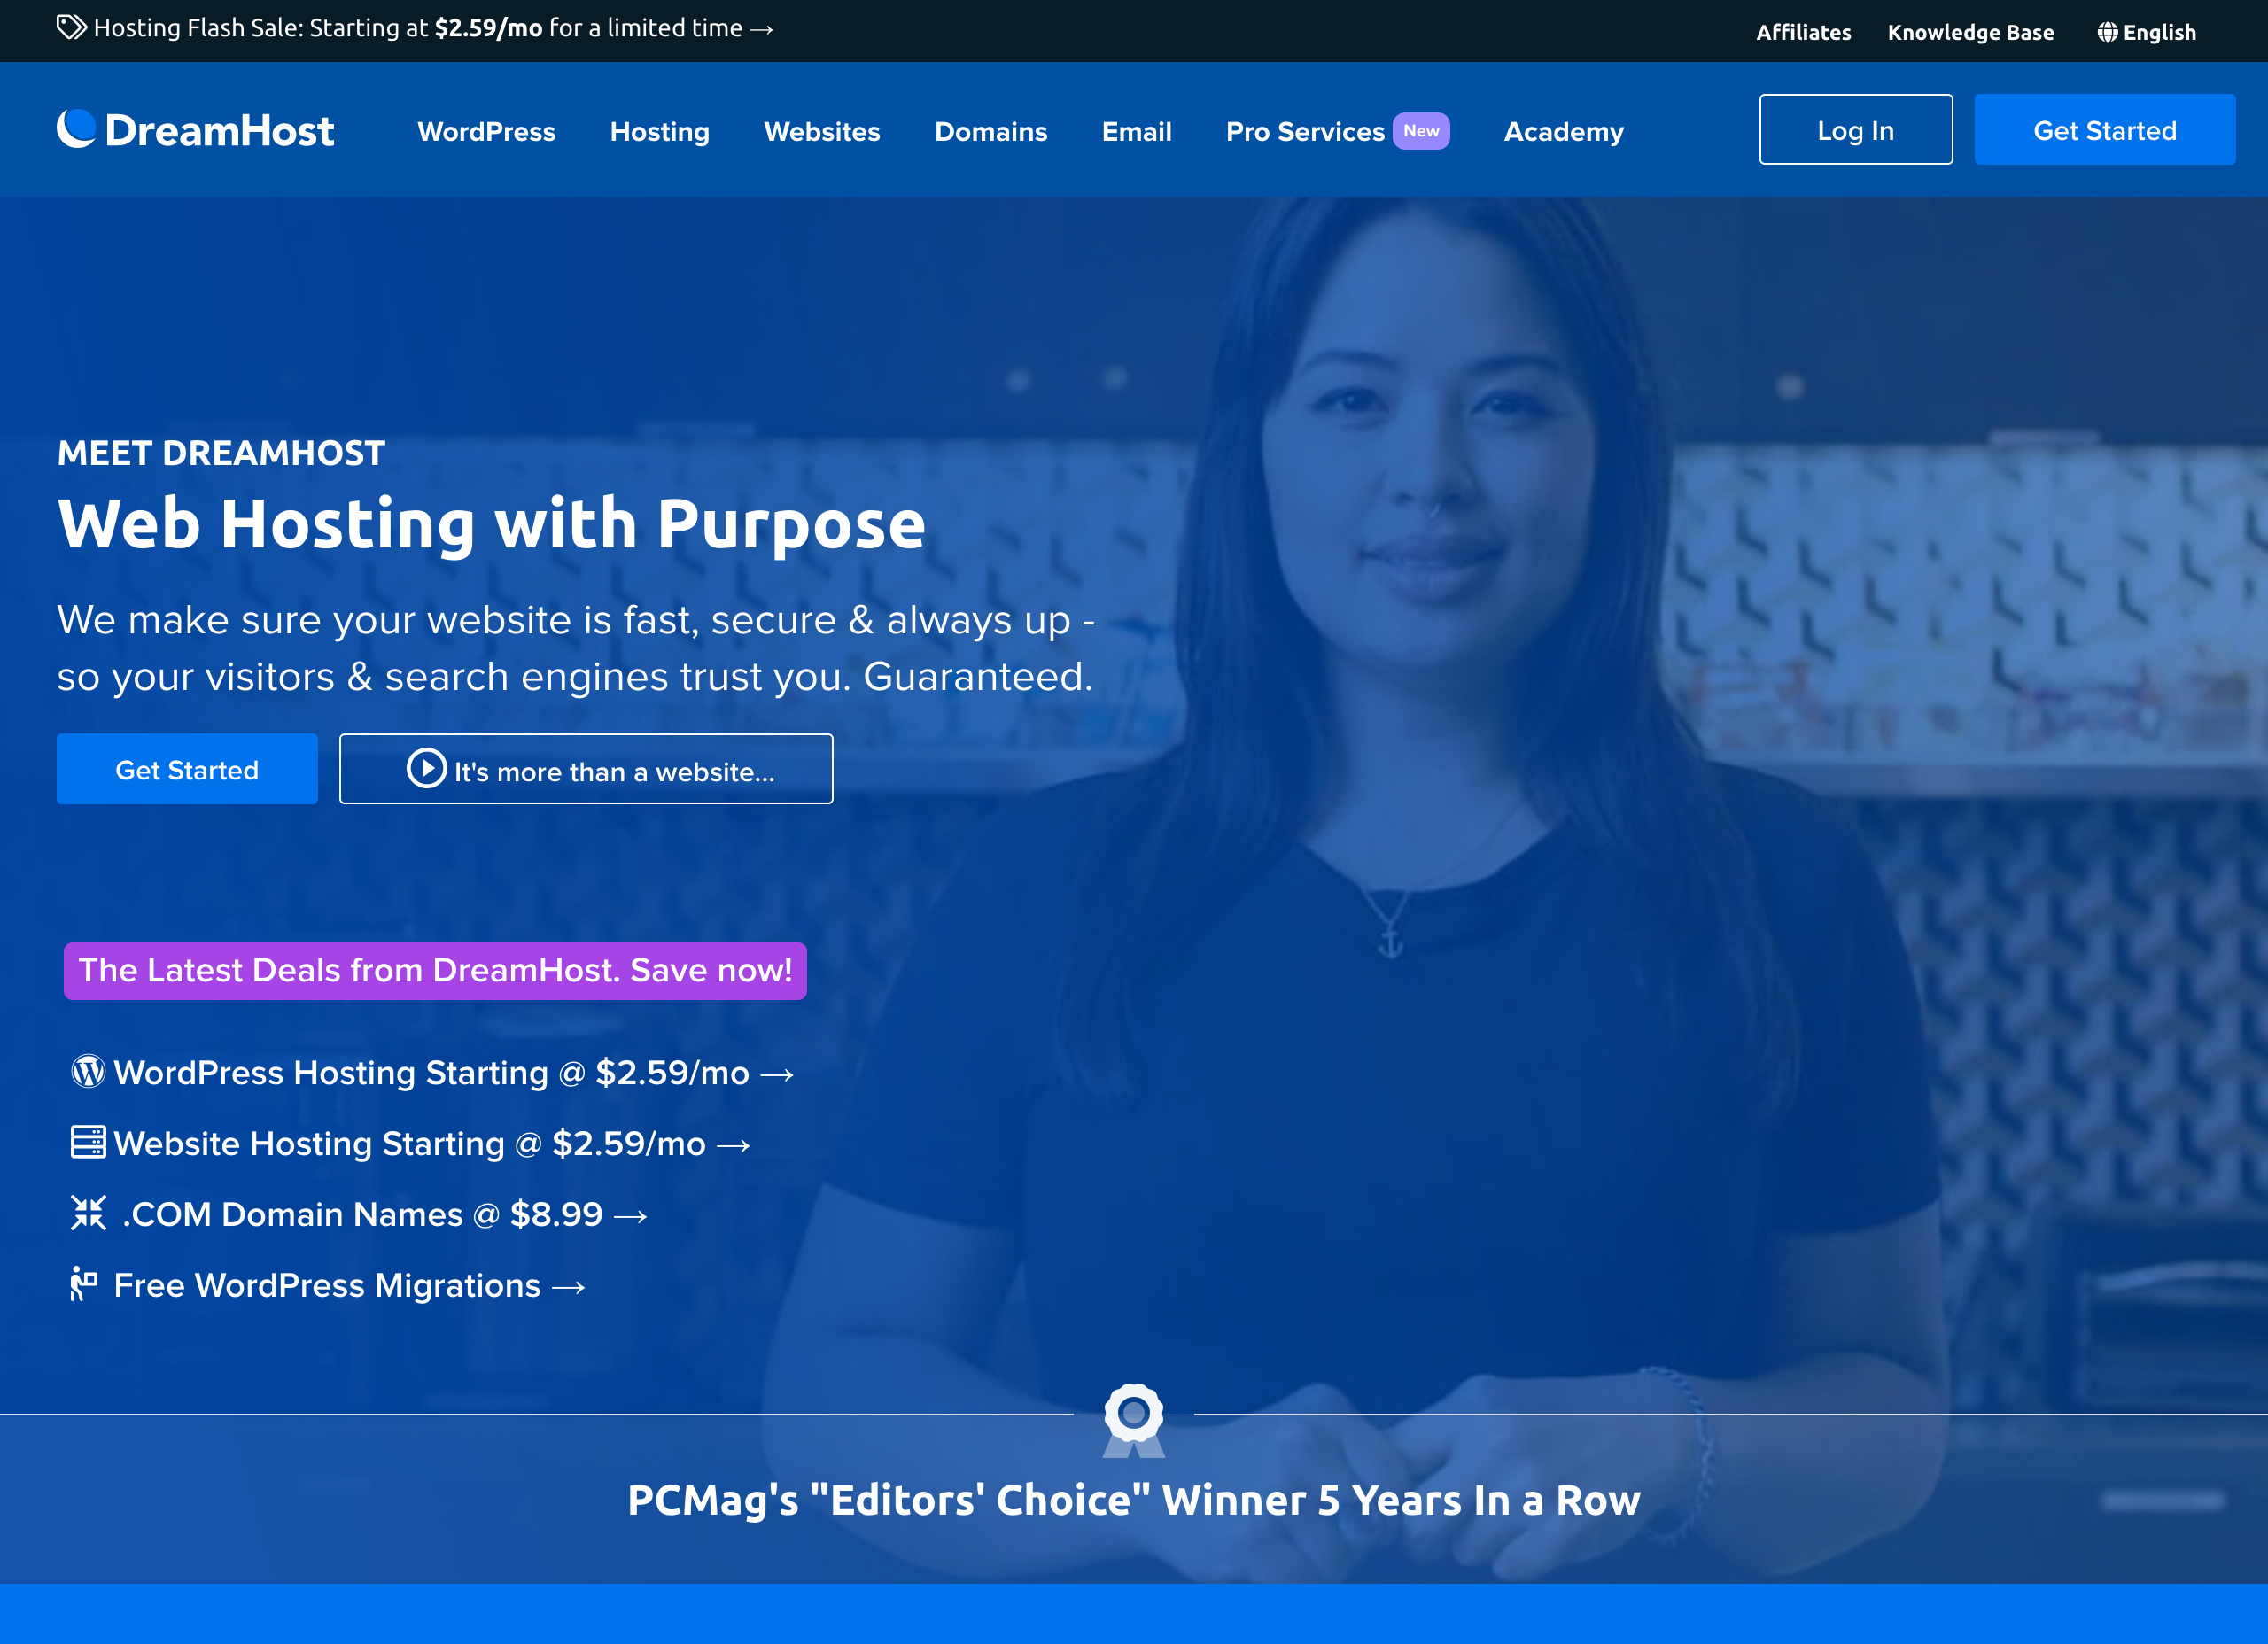Login: (1740, 81, 1963, 174)
